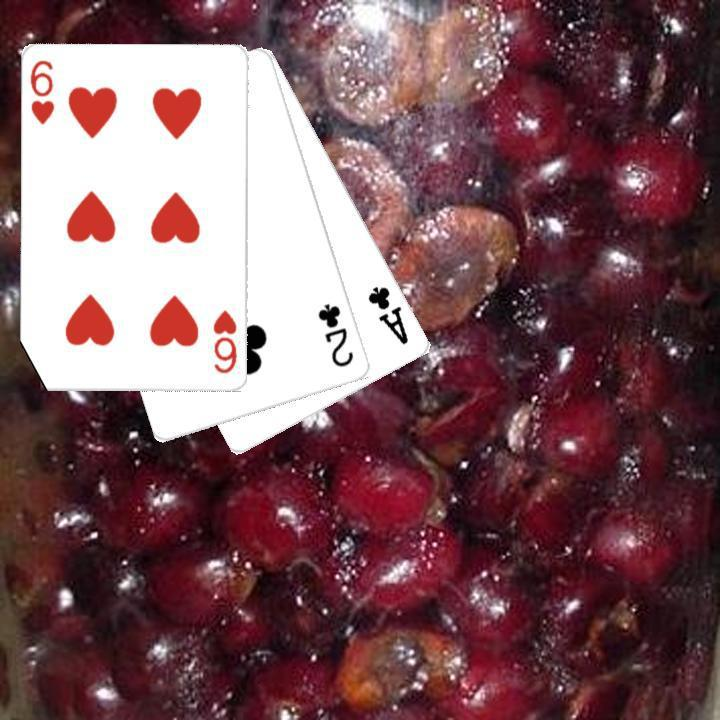2: (314, 299, 356, 370)
6: (210, 306, 240, 376), (26, 57, 56, 127)
A: (364, 282, 411, 347)
